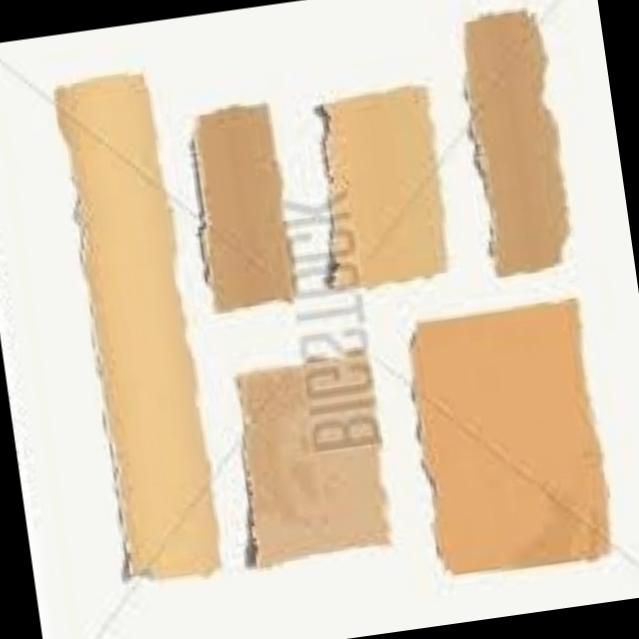cardboard paper: (56, 74, 220, 578), (414, 300, 611, 574), (239, 355, 390, 567), (466, 11, 570, 275), (323, 87, 446, 287), (197, 105, 295, 310)
